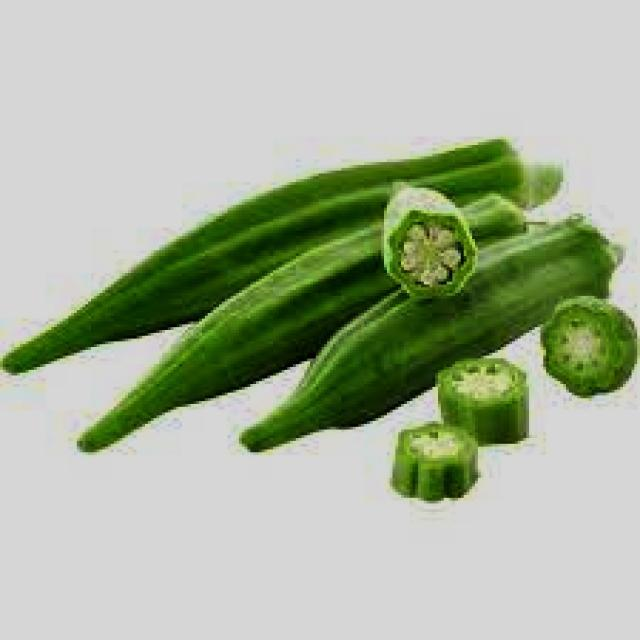Okra: (104, 156, 640, 474)
